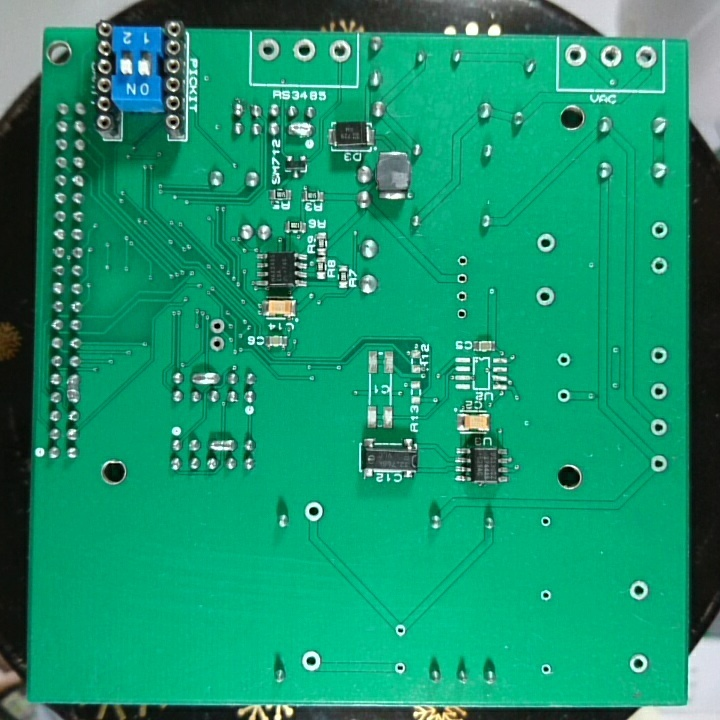F: (288, 37, 319, 63), (534, 229, 558, 258), (256, 37, 282, 63), (633, 44, 657, 72), (534, 283, 558, 311), (562, 43, 588, 68), (626, 578, 651, 603), (299, 647, 323, 672), (599, 43, 622, 69), (302, 498, 325, 524), (648, 343, 671, 367), (648, 415, 670, 440), (628, 652, 649, 678), (648, 380, 671, 403), (647, 452, 670, 475), (649, 218, 671, 242), (328, 38, 348, 64), (650, 254, 669, 278), (554, 348, 573, 372), (205, 335, 226, 355), (207, 316, 227, 336), (536, 585, 555, 606), (453, 303, 471, 325), (554, 386, 573, 405), (536, 660, 554, 679), (537, 512, 554, 532), (391, 658, 409, 676), (454, 286, 471, 305), (454, 252, 472, 269), (453, 269, 471, 286), (393, 620, 409, 639)
P: (63, 371, 83, 406), (189, 368, 220, 389), (285, 121, 318, 139), (208, 435, 236, 455)
